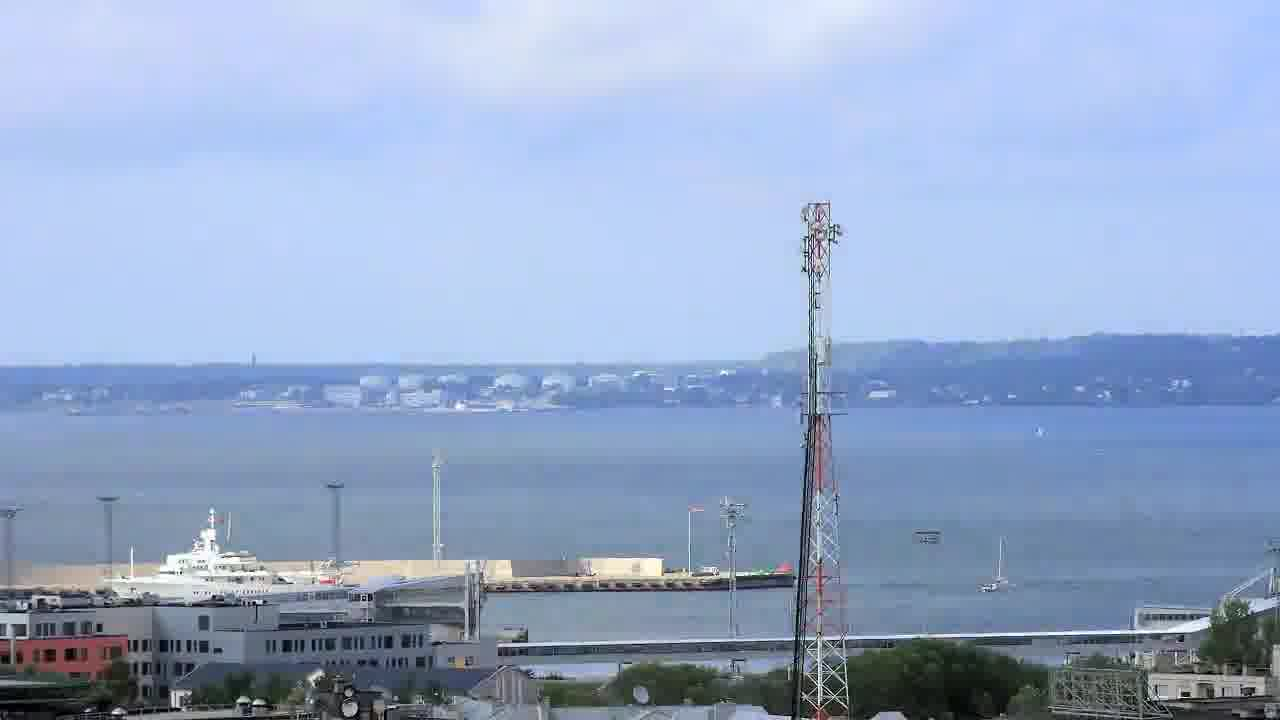type-0: (973, 535, 1025, 599)
type-3: (72, 492, 370, 608)
